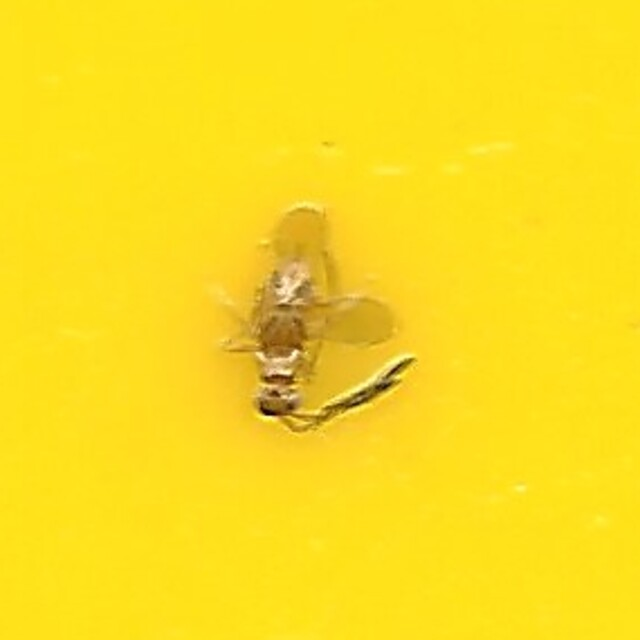Hemiptera: (225, 206, 415, 434)
